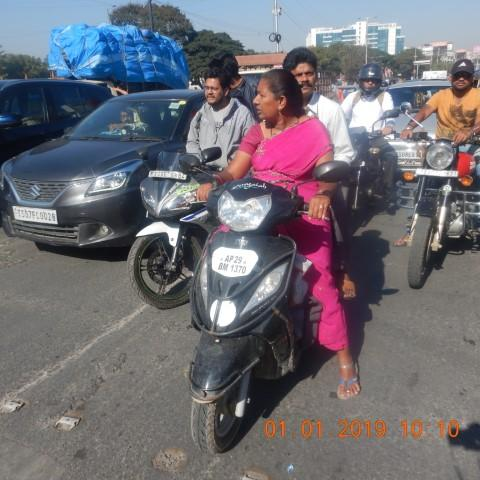plate: (217, 253, 248, 276), (416, 167, 459, 179)
